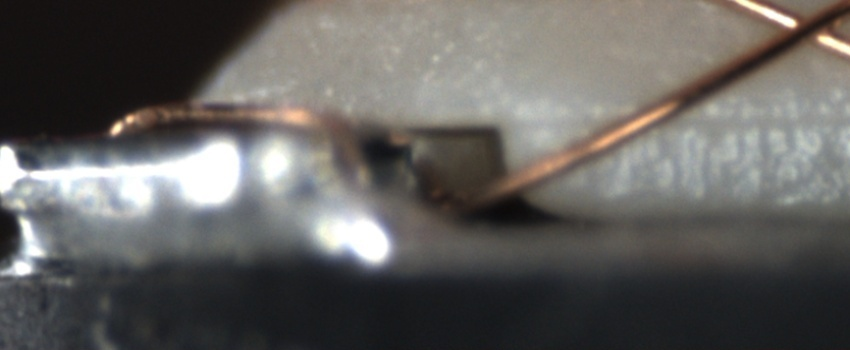CL: (763, 0, 849, 57)
DL: (540, 97, 849, 141)
TE: (109, 97, 374, 138)
